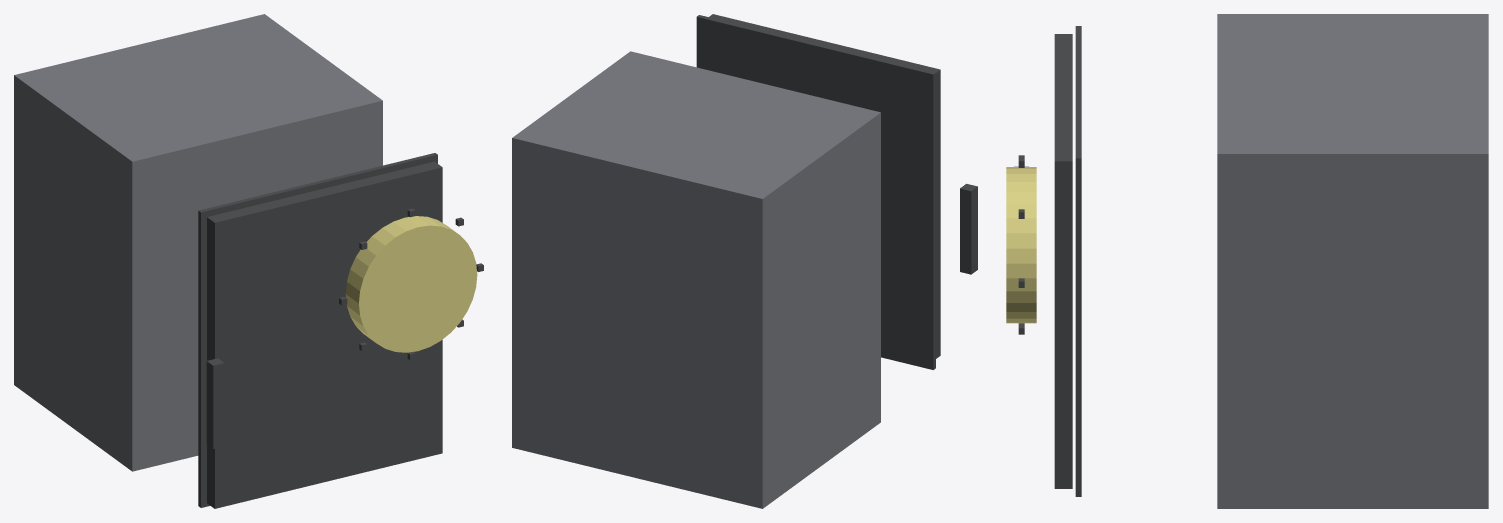
The model's file is vault.glb.
3 views of the same model, side by side, from view 1: azimuth 30°, elevation 25°; view 2: azimuth 150°, elevation 25°; view 3: azimuth 270°, elevation 25° (orthographic). The views are drawn at different scales.
Visible parts, largest first — view 1: Body, Door, Dial, Rim, Handle; view 2: Body, Rim, Door, Handle; view 3: Body, Door, Dial, Rim.
Boxes of the visible parts, box(x1,y1,x2,y2) form: Body: box(14, 14, 382, 471); Door: box(207, 161, 442, 508); Dial: box(345, 216, 477, 352); Rim: box(198, 153, 437, 507); Handle: box(206, 358, 224, 449); Body: box(512, 51, 880, 508); Rim: box(696, 15, 935, 369); Door: box(709, 14, 940, 358); Handle: box(960, 183, 977, 274); Body: box(1217, 14, 1488, 508); Door: box(1054, 34, 1072, 488); Dial: box(1006, 167, 1036, 323); Rim: box(1075, 26, 1081, 496).
Bounding box in the file's own units: 0.5985 × 0.65 × 0.8.
